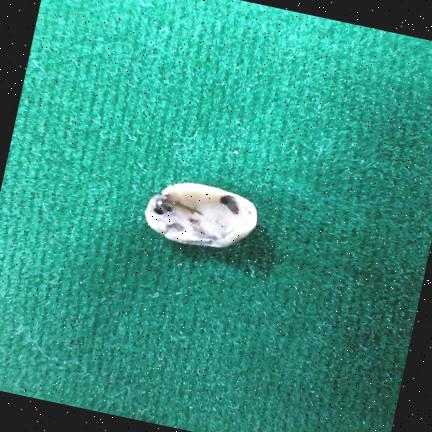shell: (145, 183, 258, 248)
